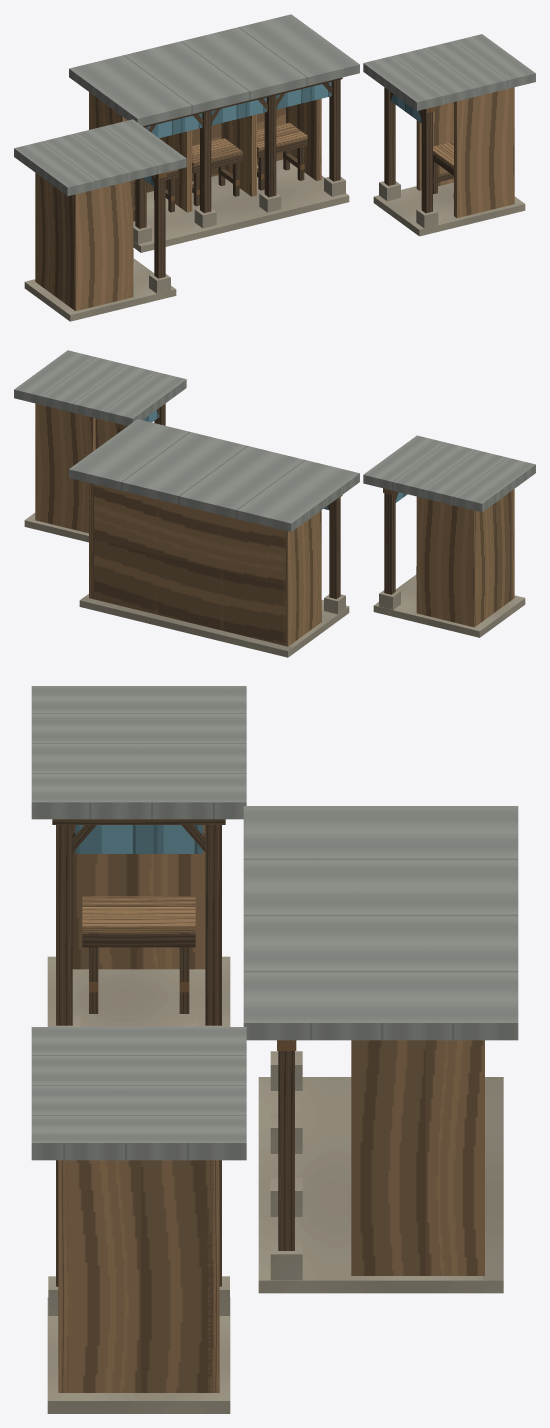
3 views of the same model, one above another, from view 1: azimuth 30°, elevation 25°; view 2: azimuth 150°, elevation 25°; view 3: azimuth 270°, elevation 25° (orthographic). The views are drawn at different scales.
Parts seen in each view (by area): view 1: algiers; view 2: algiers; view 3: algiers.
Boxes of the visible parts, x1,y1,x2,y2 form: algiers: (14,14,535,321); algiers: (14,350,535,657); algiers: (31,686,518,1413).
Size of the model in its own units: 7.4 by 2.09 by 3.33.
1 material, 1 textured.
